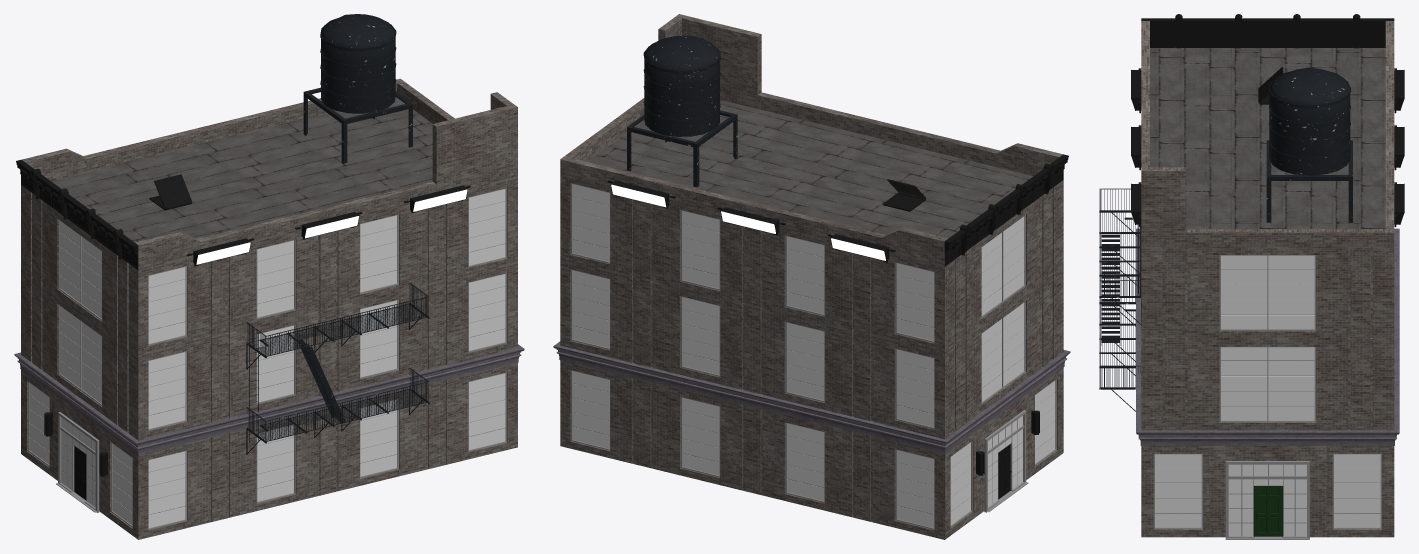
The model's file is Building_26.fbx.
The picture shows the model from 3 angles, left to right: view 1: azimuth 30°, elevation 25°; view 2: azimuth 150°, elevation 25°; view 3: azimuth 270°, elevation 25°; orthographic projection. The views are drawn at different scales.
Visible parts, largest first — view 1: Building_26_LOD0; view 2: Building_26_LOD0; view 3: Building_26_LOD0.
Part boxes in pixels (box(x1,y1,x2,y2)): Building_26_LOD0: box(14, 14, 524, 539); Building_26_LOD0: box(553, 14, 1070, 539); Building_26_LOD0: box(1099, 14, 1404, 539).
Size of what is drawn, in the model's own units: 1760 by 1680 by 1105.
